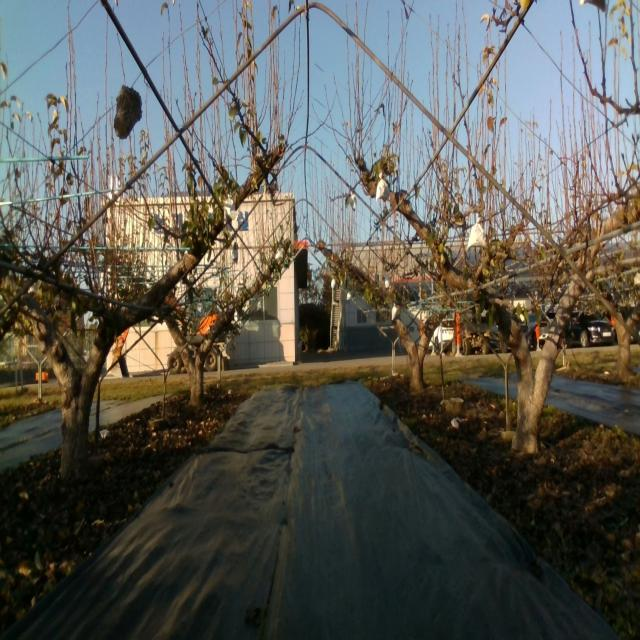pearbags: (468, 217, 487, 251), (223, 194, 238, 226), (375, 173, 389, 203)
